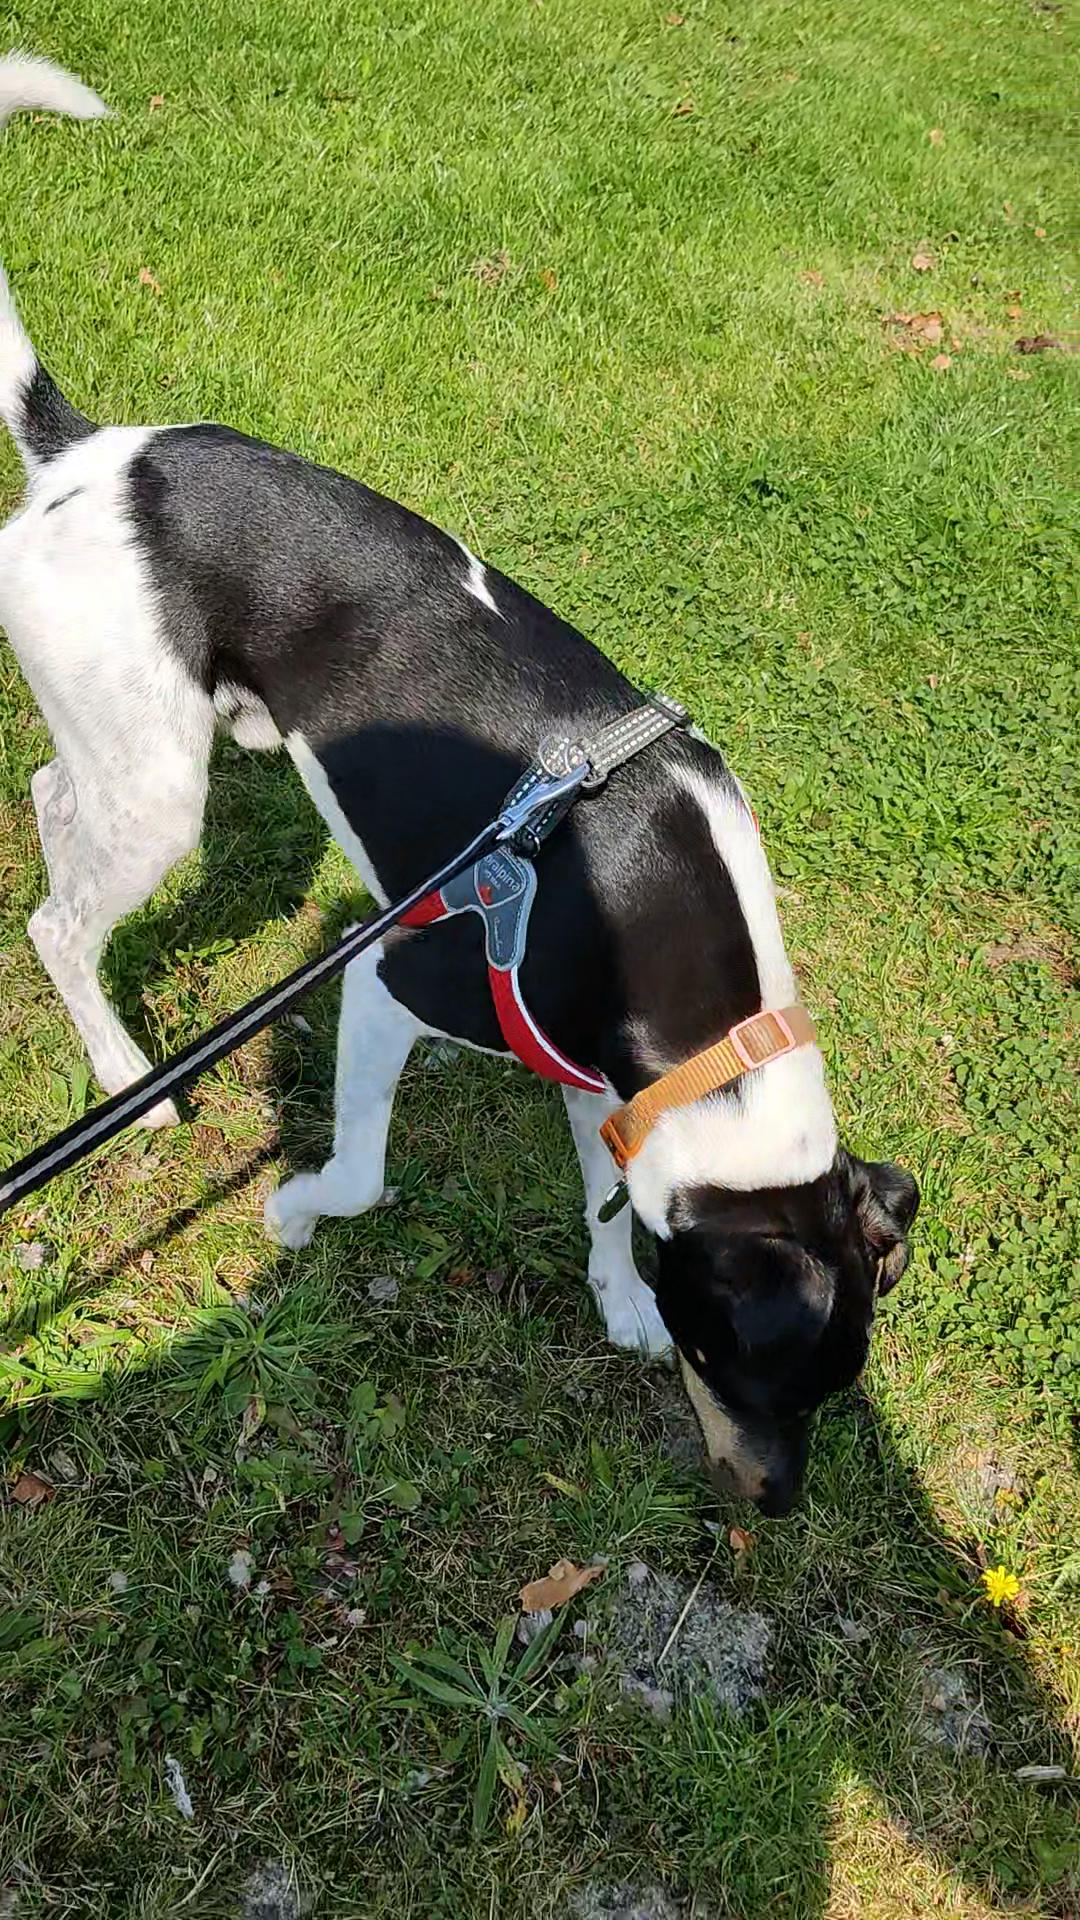Dog: (0, 47, 924, 1524)
